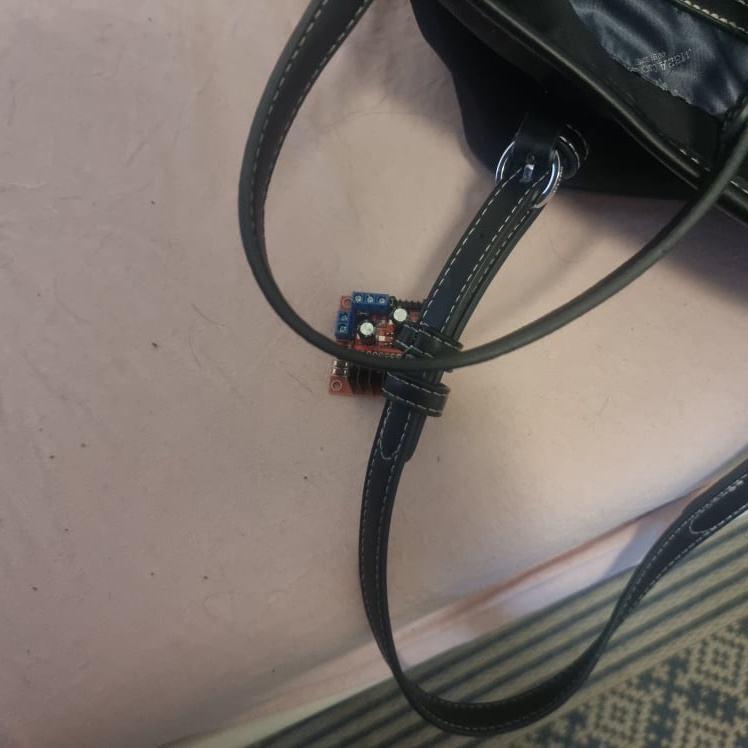MOTOR: (329, 291, 431, 399)
